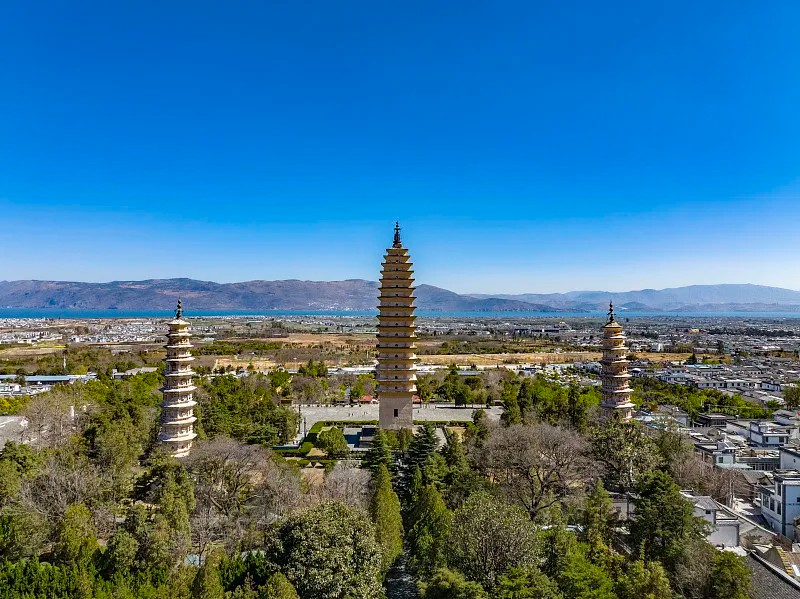ThreePagoda: (377, 221, 417, 421)
